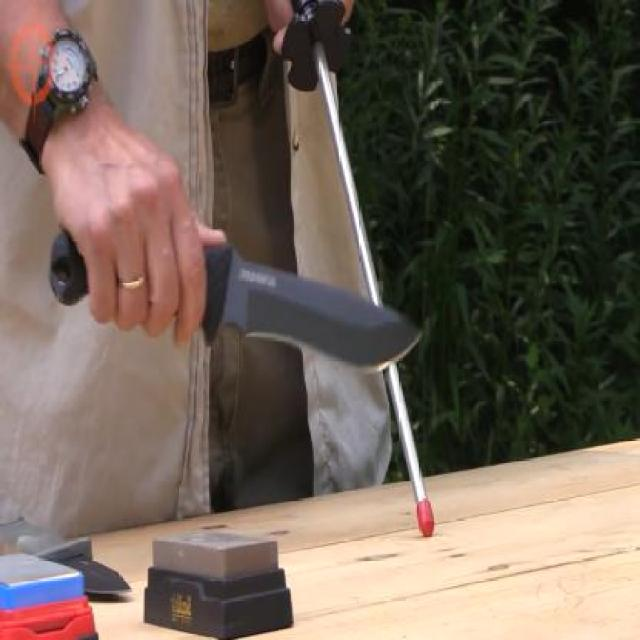knife: (40, 217, 434, 388)
